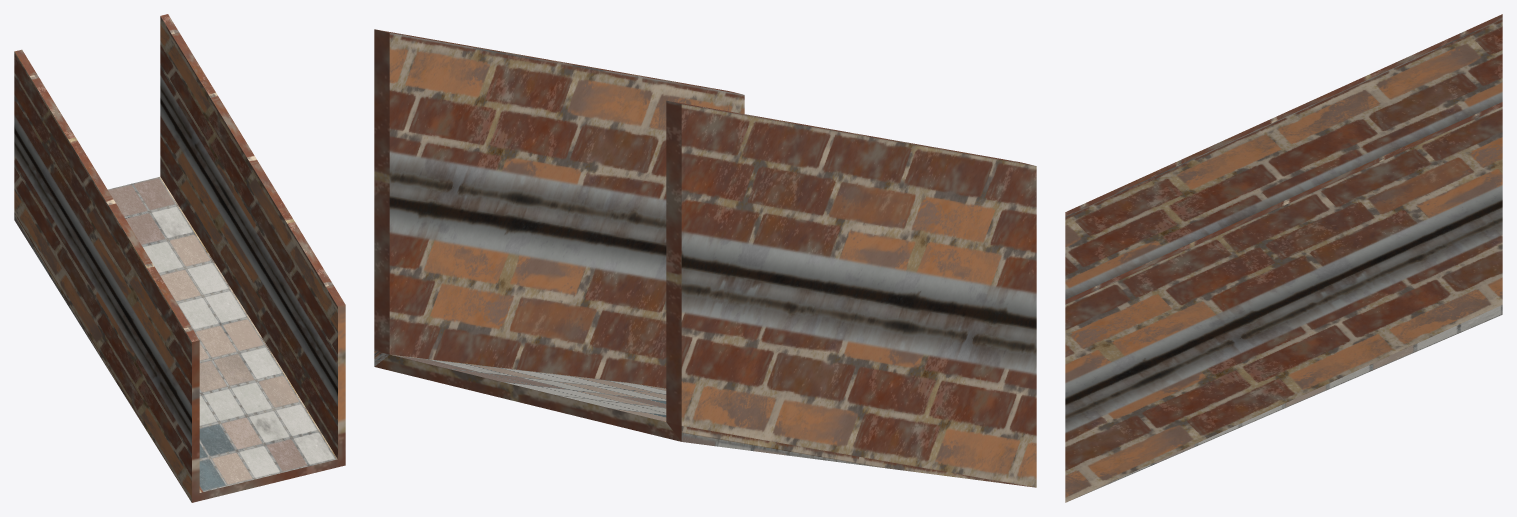
Rendered from tile7.dae.
3 views of the same model, side by side, from view 1: azimuth 30°, elevation 25°; view 2: azimuth 150°, elevation 25°; view 3: azimuth 270°, elevation 25° (orthographic). The views are drawn at different scales.
Visible parts, largest first — view 1: Cube.001; view 2: Cube.001; view 3: Cube.001.
Boxes of the visible parts, left/top/right/bottom form: Cube.001: left=14, top=14, right=345, bottom=502; Cube.001: left=374, top=29, right=1036, bottom=487; Cube.001: left=1065, top=14, right=1502, bottom=502.
Size of the model in its own units: 5 by 10 by 10.
1 material, 1 textured.
